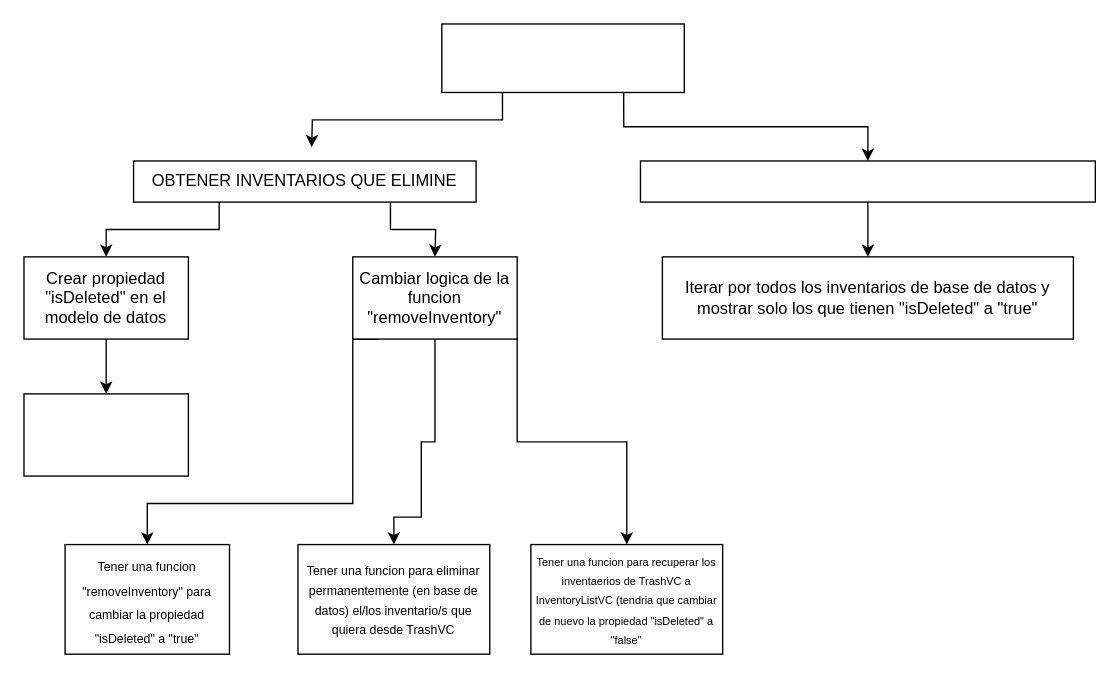
Some shapes in this 1119 by 678 pixel diagram are drawn without their labels. The shapes that lost their labels are listed below. From the top down, each one's box as (x1, y1, x2, y2) in pixels, then its label:
(440, 23, 684, 92): MOSTRAR INVENTARIOS ELIMINADOS EN TRASHVC
(639, 160, 1095, 202): MOSTRAR INVENTARIOS EN LA TABLA DE TRASHVC
(23, 393, 188, 476): Cambiar mappeos, viewModel, etc (donde se queje)
